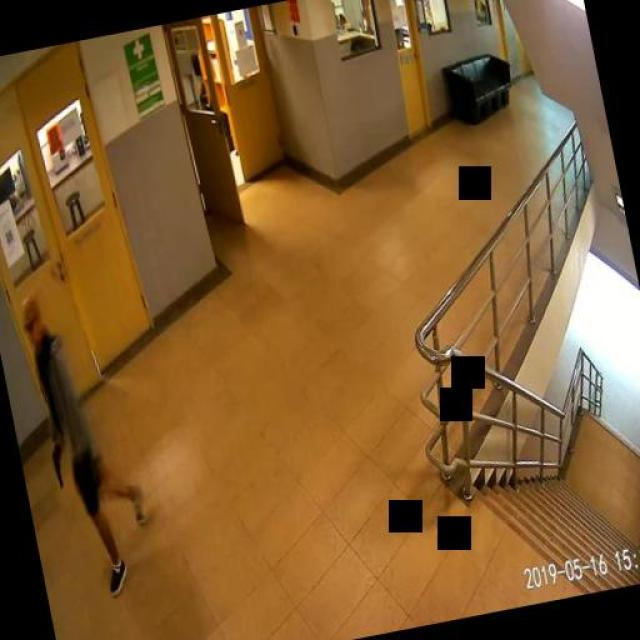gun: (48, 442, 68, 488)
